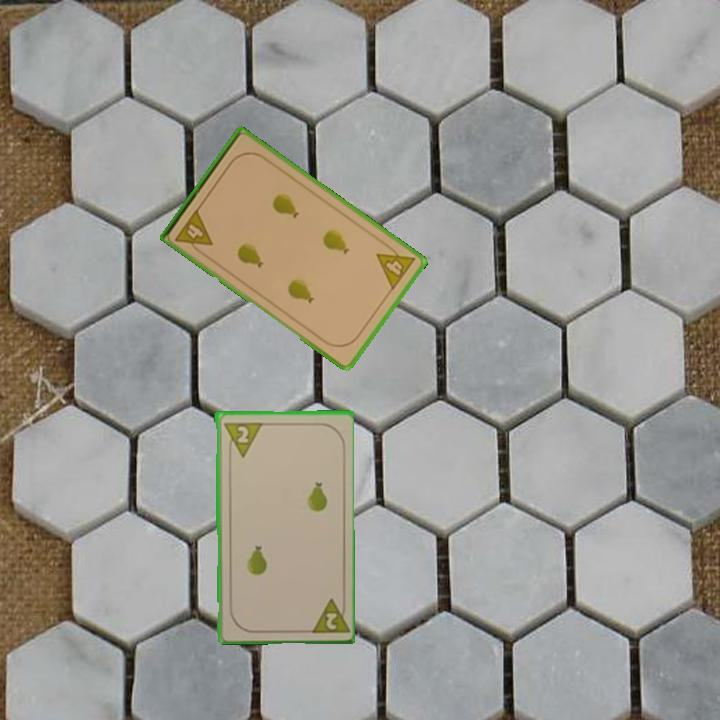2p: (305, 594, 350, 636), (220, 419, 263, 459)
4p: (373, 239, 419, 293), (171, 205, 216, 258)
